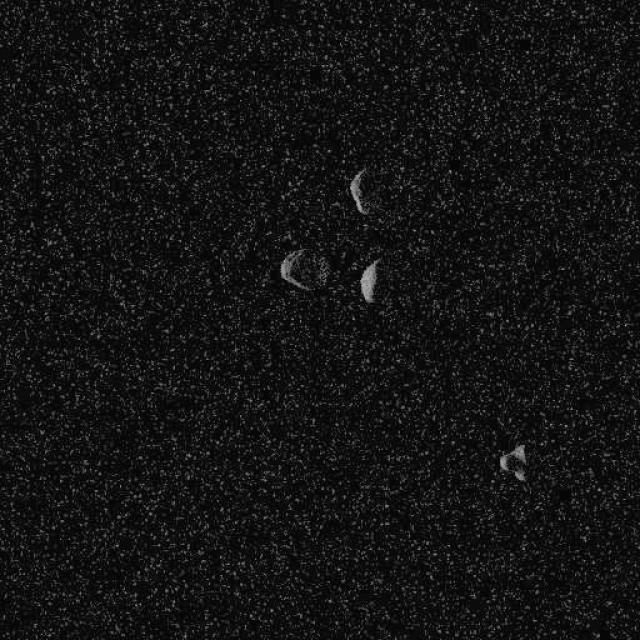D2: (279, 246, 331, 292), (498, 442, 528, 482), (348, 166, 372, 215), (358, 256, 382, 304)
